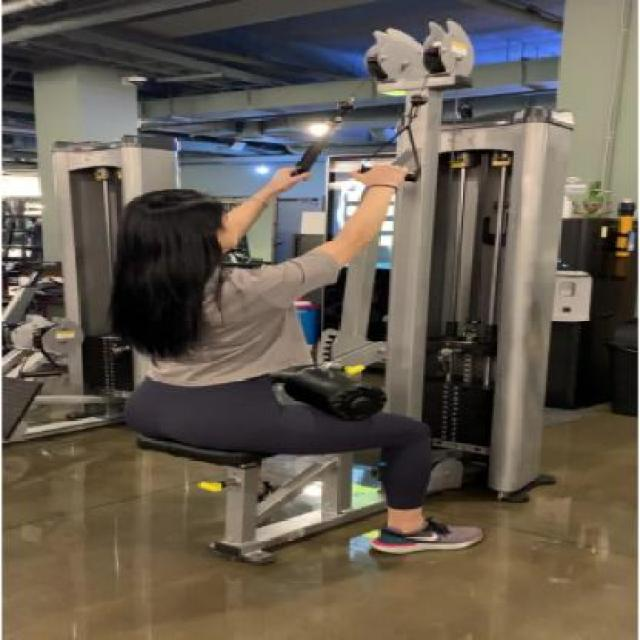Lat Pull Down: (72, 0, 640, 582)
